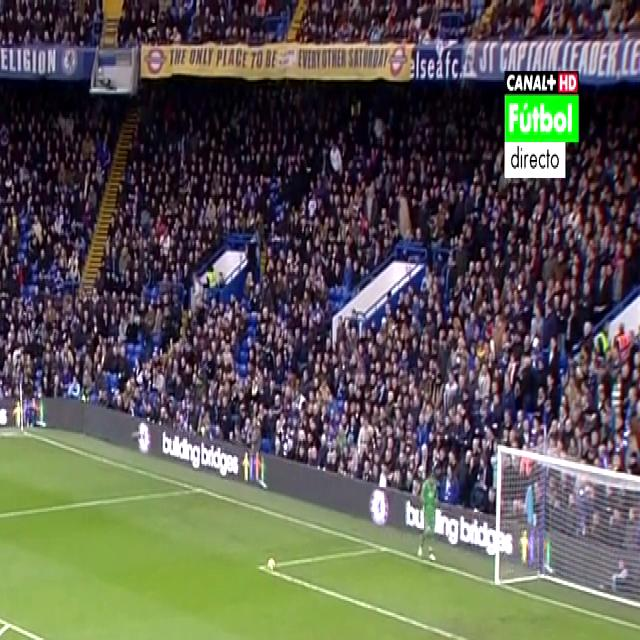ball: (264, 552, 280, 577)
goalkeeper: (418, 462, 438, 568)
